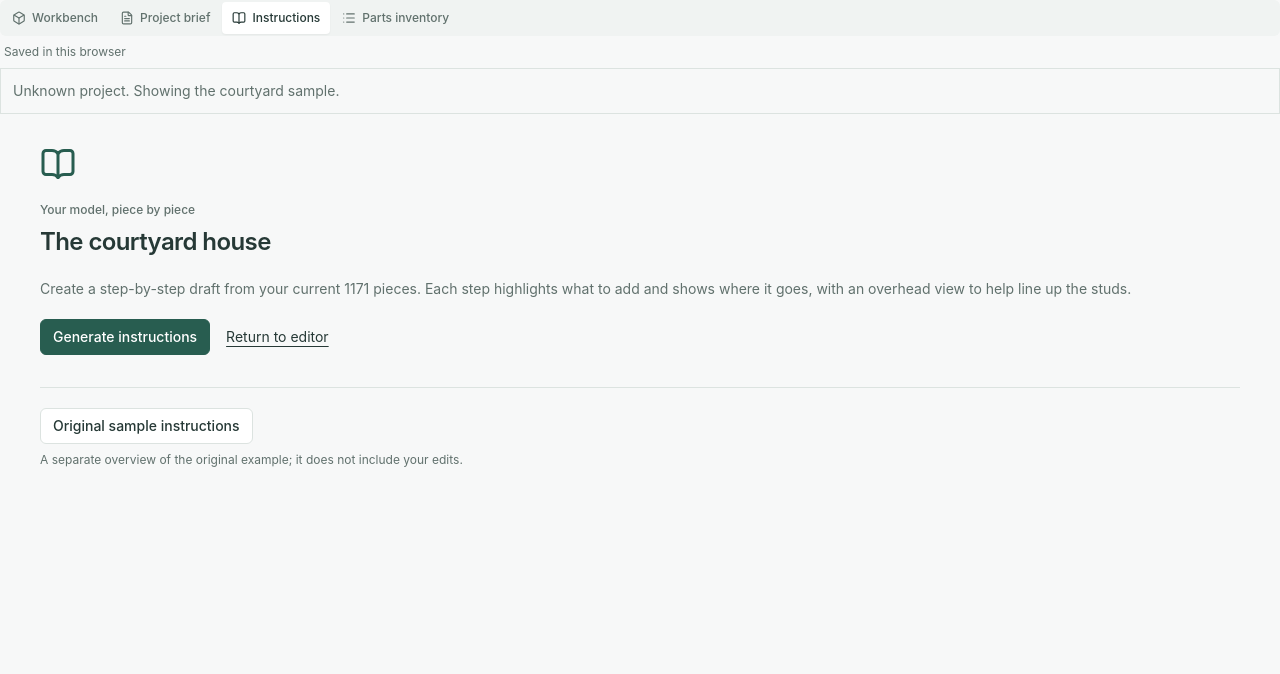
it: Generated local instructions › explains an unknown project fallback in the entry, generated and original guides
expect the text "Unknown project. Showing the courtyard sample." is shown: met, box left=0, top=68, right=1279, bottom=114
Click the button "Generate instructions" at (125, 337), box left=40, top=319, right=210, bottom=355
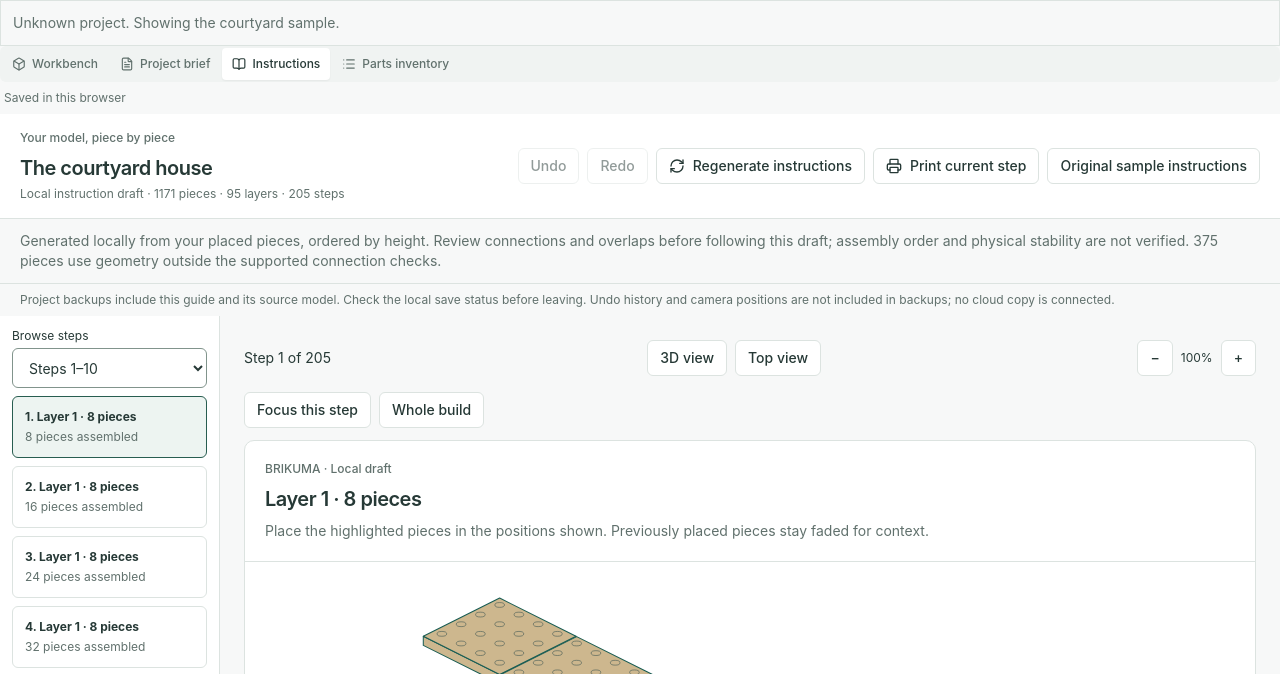
expect the text "Unknown project. Showing the courtyard sample." is shown: met, box left=0, top=0, right=1279, bottom=46
expect the text "Local instruction draft" is shown: met, box left=20, top=186, right=154, bottom=201
Click the button "Original sample instructions" at (1154, 166), box left=1047, top=148, right=1260, bottom=184
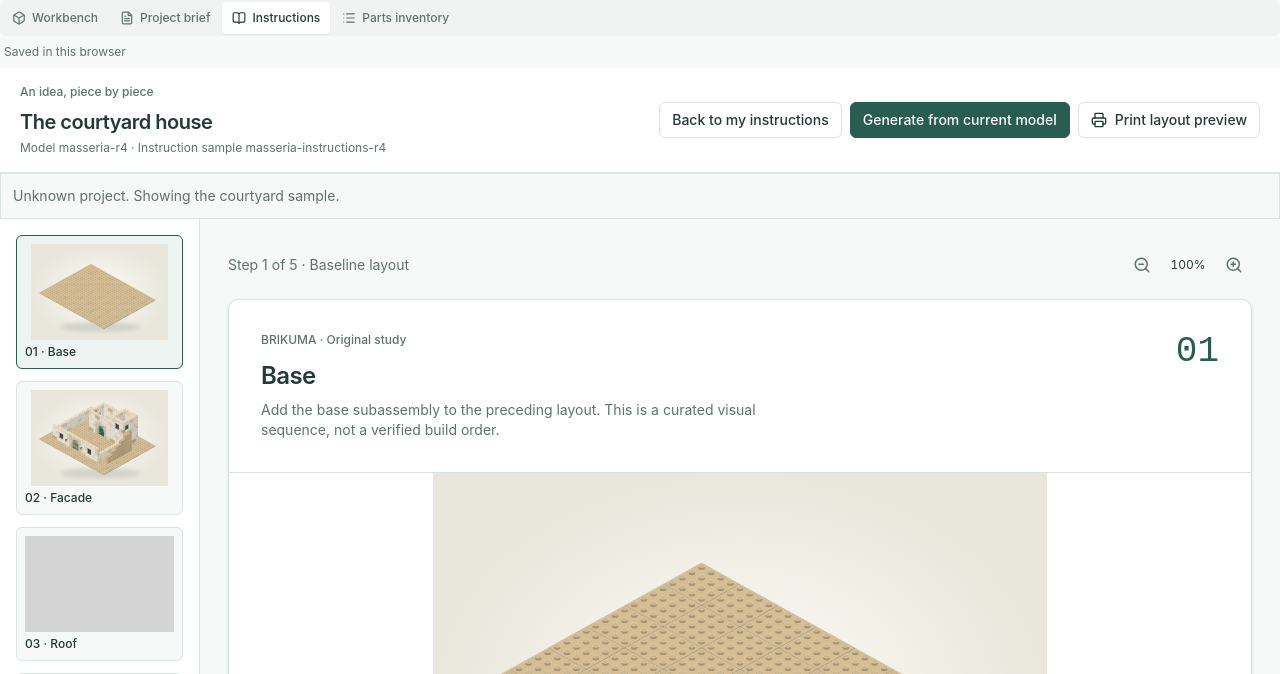
expect the text "Unknown project. Showing the courtyard sample." is shown: met, box left=0, top=173, right=1279, bottom=219
expect the text "Instruction sample" is shown: met, box left=128, top=140, right=246, bottom=155
